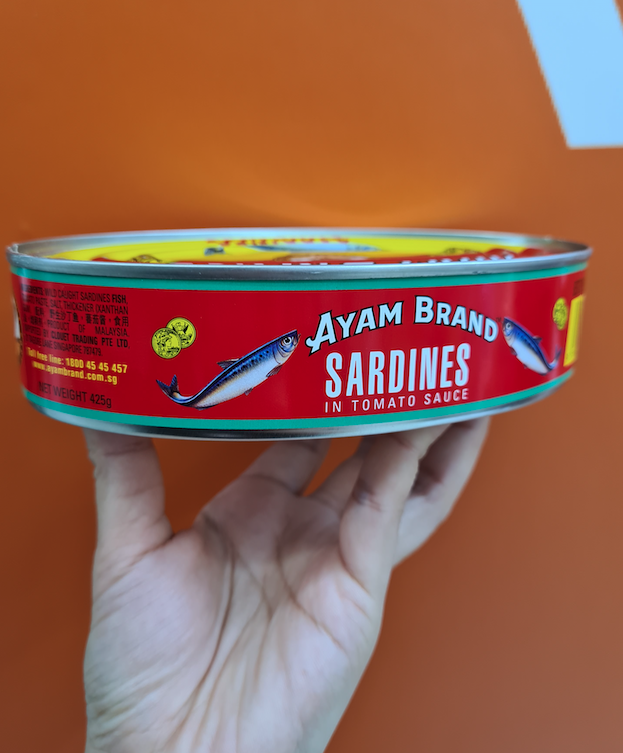Canned_Sardines_and_Mackerel: (14, 234, 578, 413)
